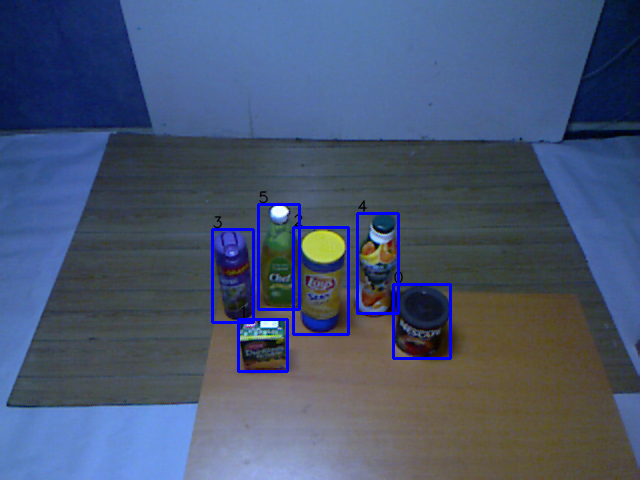aceite: (254, 202, 302, 311)
aerosol: (206, 227, 257, 322)
cafe: (391, 284, 454, 362)
durazno: (238, 316, 290, 372)
papas: (294, 228, 347, 336)
yogurt: (352, 210, 406, 318)
